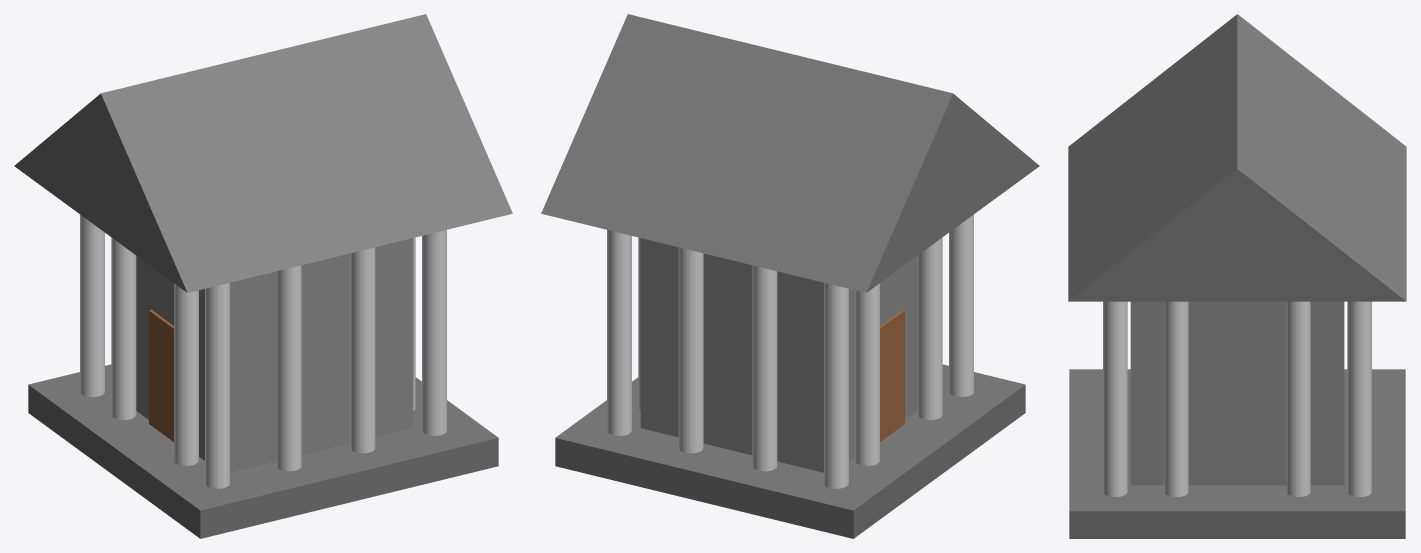
The model's file is bank.glb.
3 views of the same model, side by side, from view 1: azimuth 30°, elevation 25°; view 2: azimuth 150°, elevation 25°; view 3: azimuth 270°, elevation 25° (orthographic). The views are drawn at different scales.
Parts seen in each view (by area): view 1: Cylinder.003, inner.003, foundation.003, pillar.039, pillar.037, pillar.045, pillar.046, pillar.043, pillar.041, pillar.044, door.003; view 2: Cylinder.003, inner.003, foundation.003, pillar.038, pillar.036, pillar.044, pillar.047, pillar.041, pillar.043, pillar.045, door.003; view 3: Cylinder.003, inner.003, foundation.003, pillar.040, pillar.042, pillar.046, pillar.047.
Part boxes in pixels (box(x1,y1,x2,y2)): Cylinder.003: box(14, 14, 512, 292); inner.003: box(136, 238, 413, 472); foundation.003: box(28, 364, 498, 538); pillar.039: box(276, 265, 301, 471); pillar.037: box(350, 247, 375, 453); pillar.045: box(205, 283, 229, 488); pillar.046: box(422, 230, 446, 435); pillar.043: box(111, 237, 136, 419); pillar.041: box(174, 283, 198, 465); pillar.044: box(80, 214, 104, 396); door.003: box(149, 310, 173, 441); Cylinder.003: box(541, 14, 1039, 292); inner.003: box(640, 238, 917, 472); foundation.003: box(555, 364, 1025, 538); pillar.038: box(752, 265, 777, 471); pillar.036: box(678, 247, 703, 453); pillar.044: box(824, 283, 848, 488); pillar.047: box(607, 230, 631, 435); pillar.041: box(917, 237, 942, 419); pillar.043: box(855, 283, 879, 465); pillar.045: box(949, 214, 973, 396); door.003: box(880, 310, 904, 441); Cylinder.003: box(1068, 14, 1406, 301); inner.003: box(1130, 301, 1344, 485); foundation.003: box(1069, 369, 1405, 538); pillar.040: box(1164, 301, 1188, 496); pillar.042: box(1286, 301, 1310, 496); pillar.046: box(1103, 301, 1127, 496); pillar.047: box(1347, 301, 1371, 496).
Size of the model in its own units: 3 by 3.4 by 2.77.
